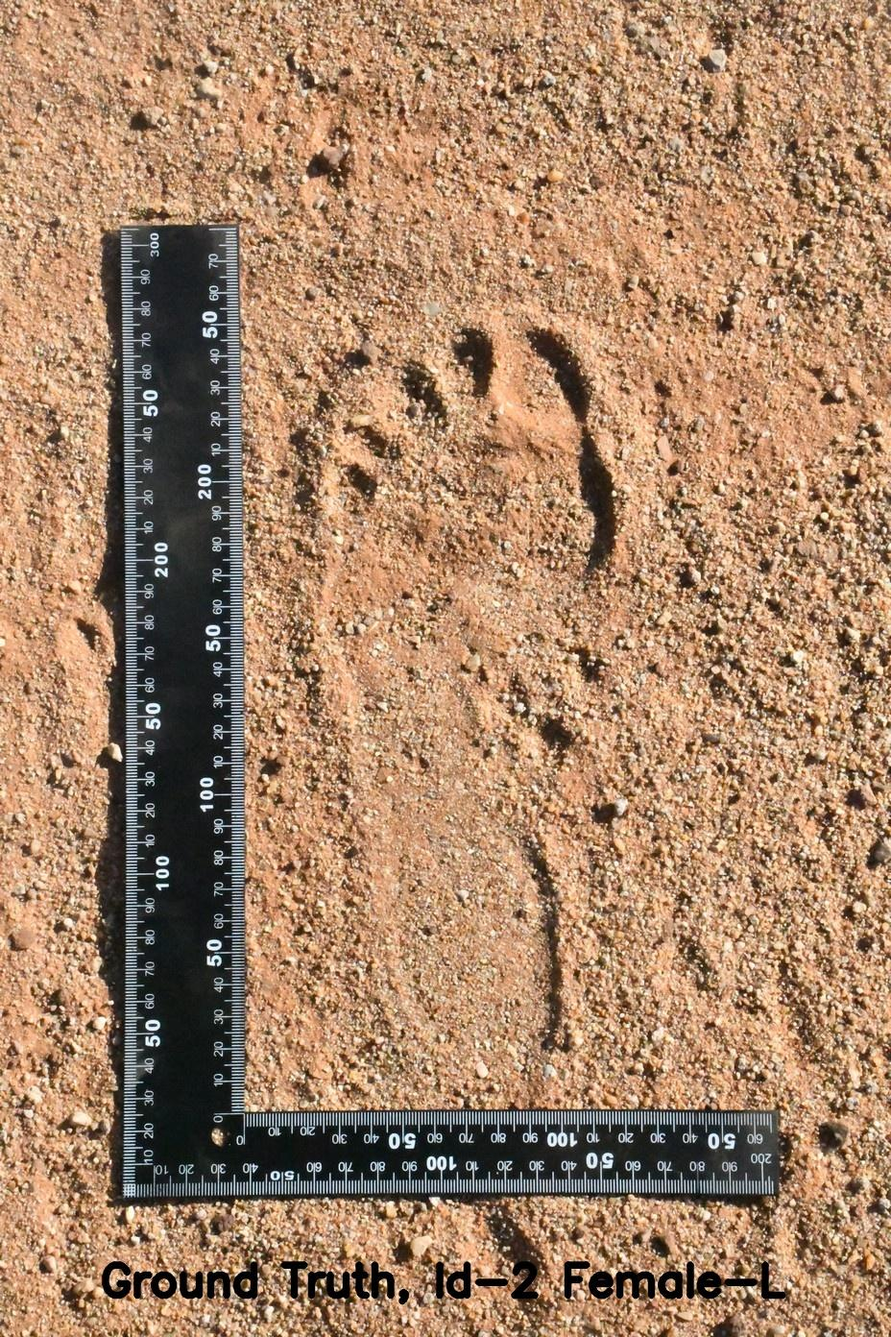human_foot_print: (269, 183, 692, 1098)
